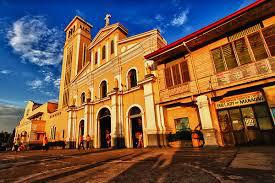manaoag_church_manaoag_pangasinan: (56, 10, 172, 149)
